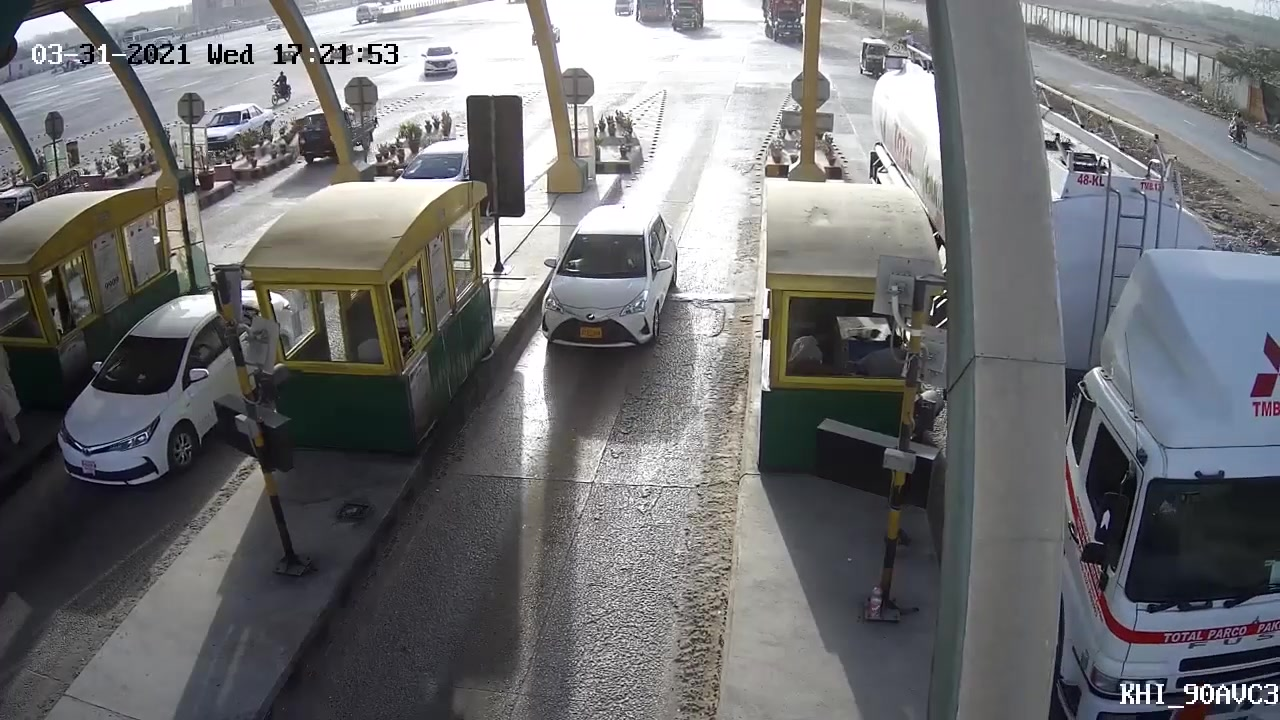F1: (517, 195, 690, 365)
